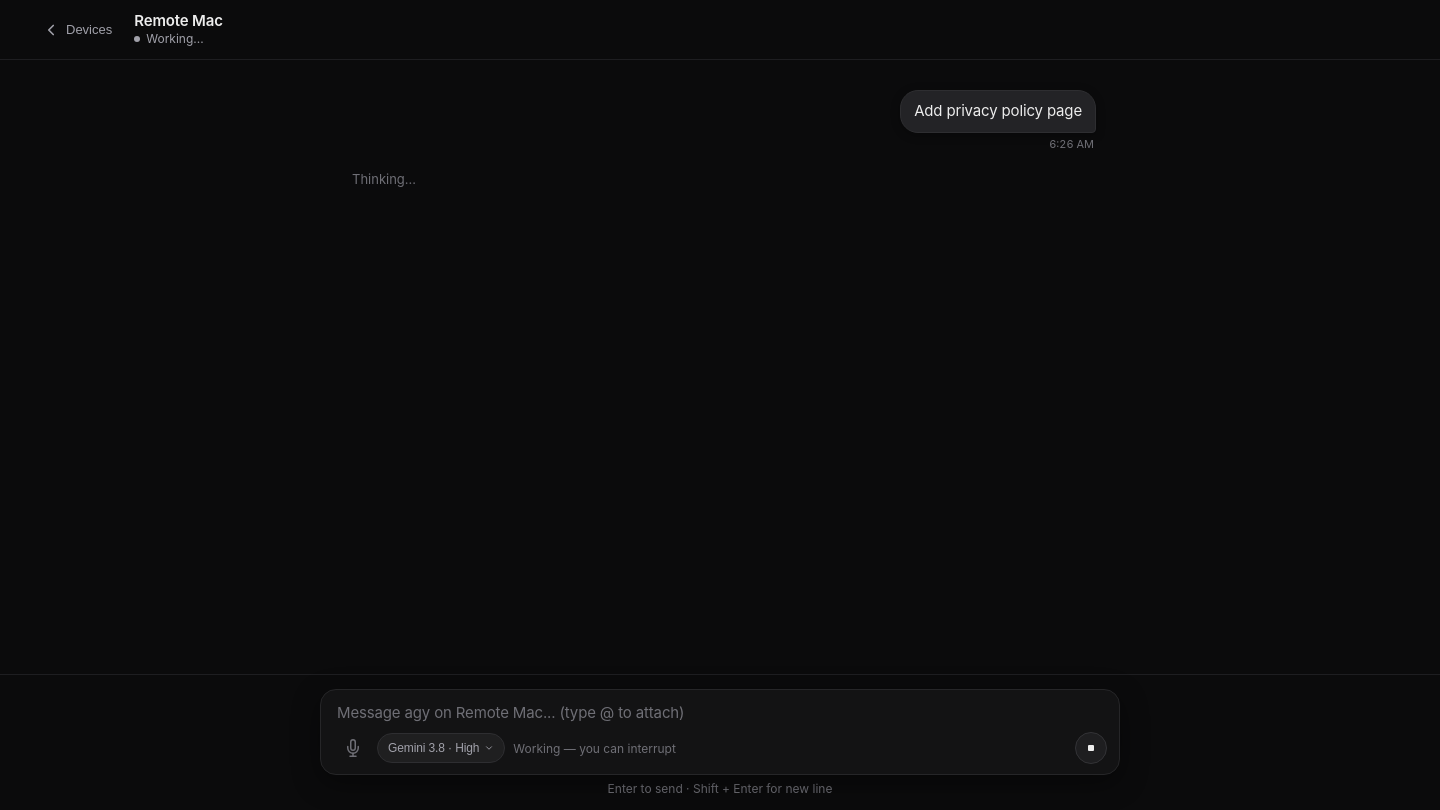
Web App Workflow › turns submit button into stop button while running and cancels task on click
The image size is (1440, 810).
Click the button with test id "stop-task-btn".
click(1091, 748)  # box [1075,732,1107,764]
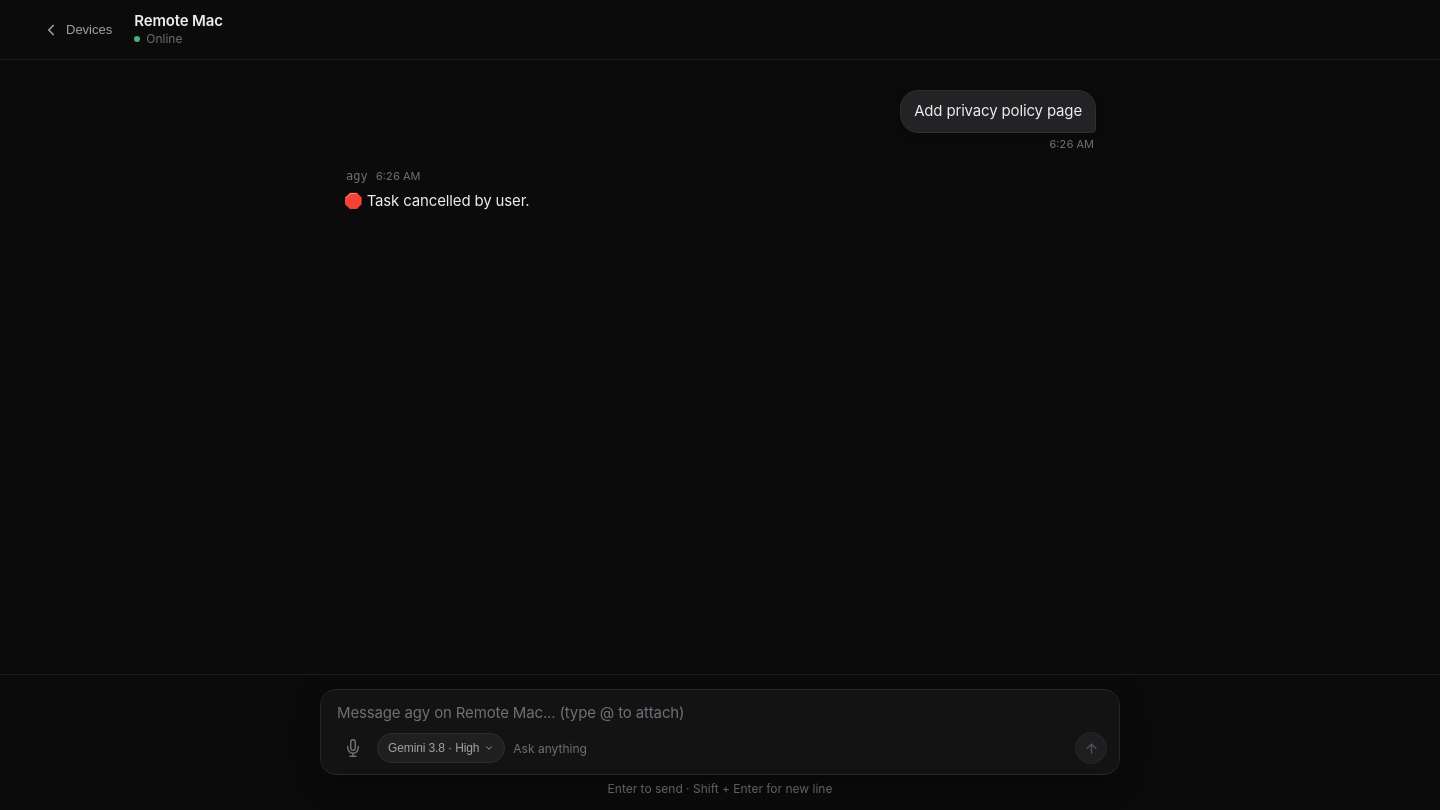
Check: the button with test id "submit-task-btn" is shown, box [1075,732,1107,764]
